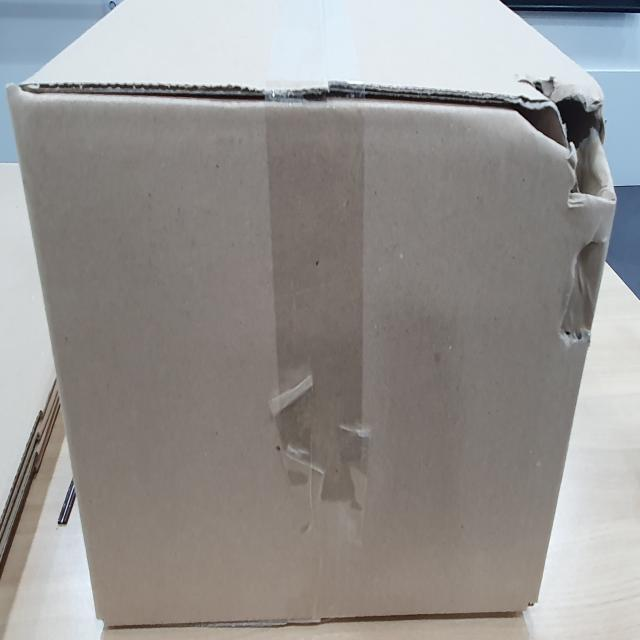hole: (514, 62, 608, 224), (550, 228, 621, 346)
